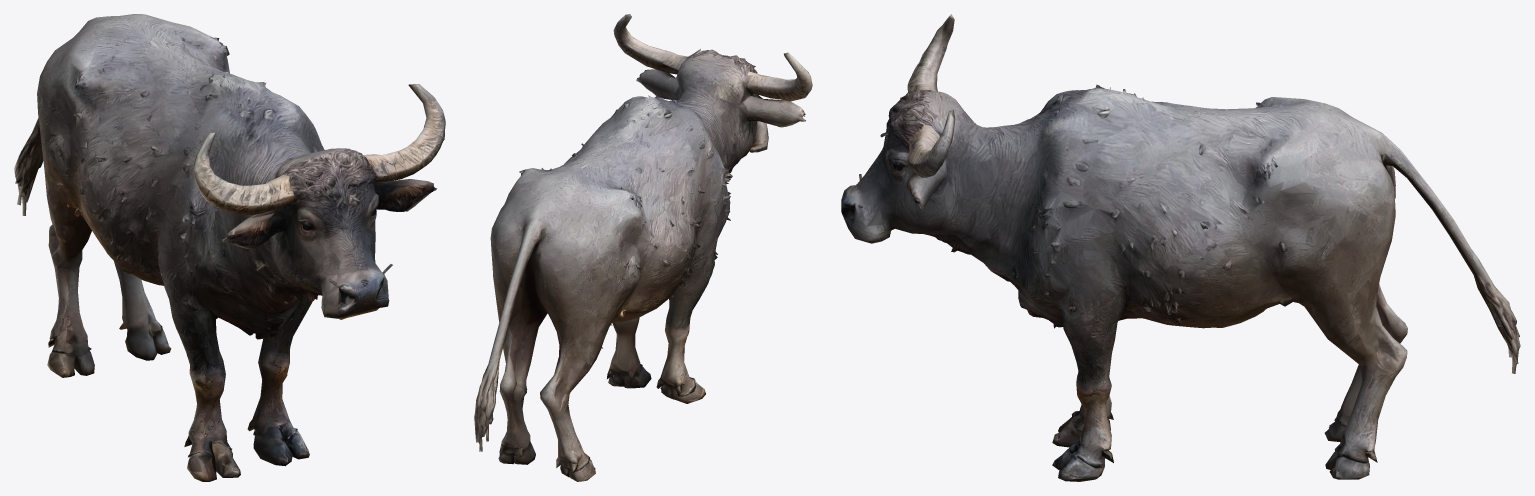
File: buffalo.glb
3 views of the same model, side by side, from view 1: azimuth 30°, elevation 25°; view 2: azimuth 150°, elevation 25°; view 3: azimuth 270°, elevation 25° (orthographic). The views are drawn at different scales.
Visible parts, largest first — view 1: tripo_node_f16df46d-26be-4587-8b4a-295a854ce96c; view 2: tripo_node_f16df46d-26be-4587-8b4a-295a854ce96c; view 3: tripo_node_f16df46d-26be-4587-8b4a-295a854ce96c.
Part boxes in pixels (left/top/right/bottom): tripo_node_f16df46d-26be-4587-8b4a-295a854ce96c: left=14, top=14, right=445, bottom=481; tripo_node_f16df46d-26be-4587-8b4a-295a854ce96c: left=474, top=14, right=812, bottom=481; tripo_node_f16df46d-26be-4587-8b4a-295a854ce96c: left=841, top=14, right=1520, bottom=481.
Size of the model in its own units: 0.4017 by 0.6241 by 0.9783.
1 material, 1 textured.
